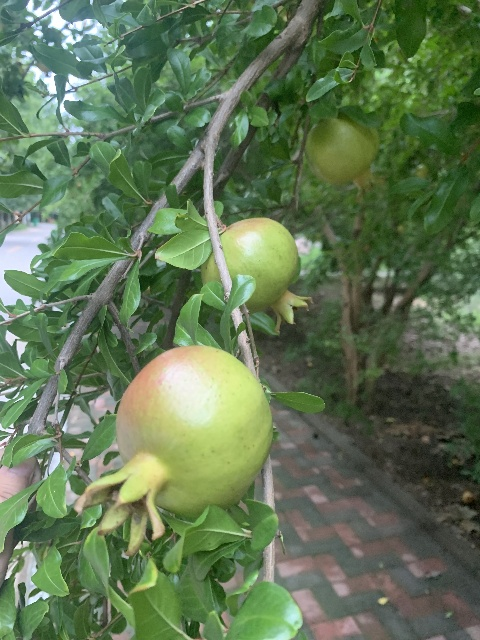mid-growth: (76, 345, 273, 556), (204, 216, 312, 333), (304, 113, 386, 199)
